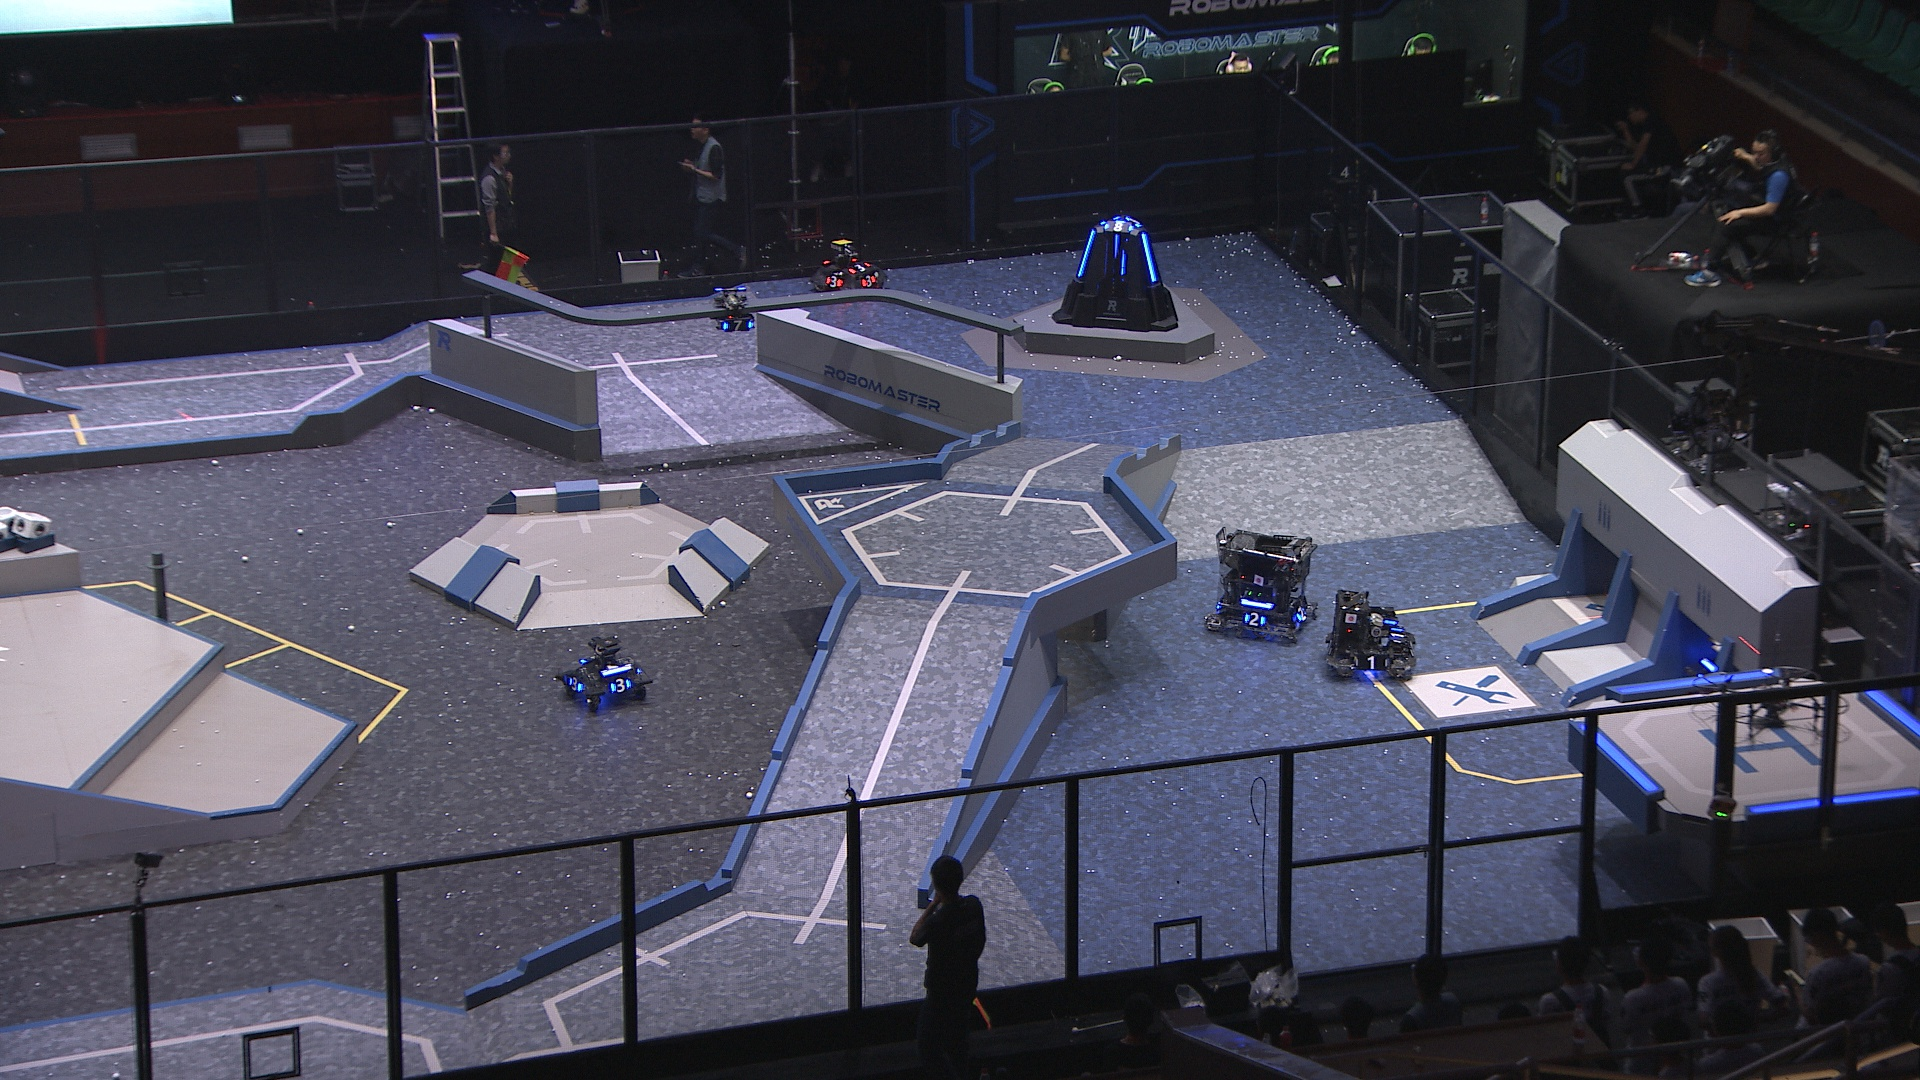armor: (1138, 232, 1160, 285), (1076, 228, 1098, 280), (1352, 651, 1393, 673), (719, 318, 754, 334), (608, 675, 632, 694), (1102, 220, 1134, 233), (1387, 626, 1408, 646), (566, 674, 585, 694), (847, 258, 873, 273), (1244, 612, 1269, 626), (823, 273, 844, 289), (1112, 233, 1122, 261), (860, 272, 878, 287), (1294, 604, 1309, 622)
base: (1048, 214, 1179, 330)
car: (1203, 527, 1317, 642), (1323, 589, 1416, 683), (555, 632, 654, 713), (808, 237, 891, 299)
watcher: (711, 286, 756, 335)
